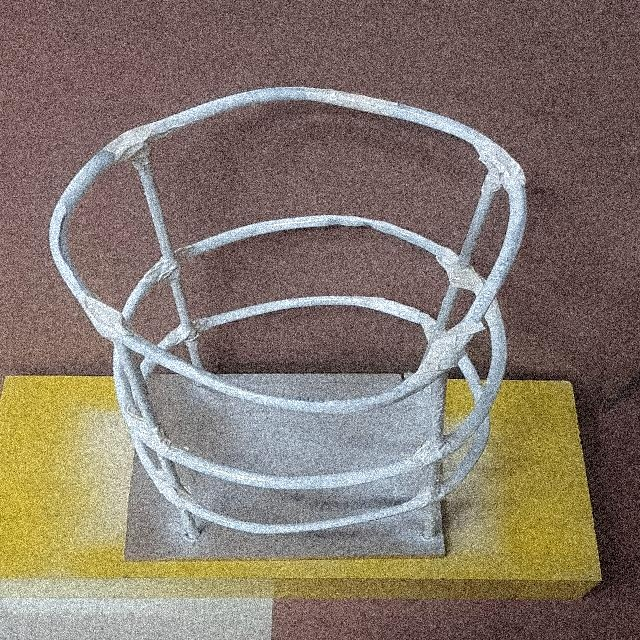silo: (45, 82, 511, 555)
